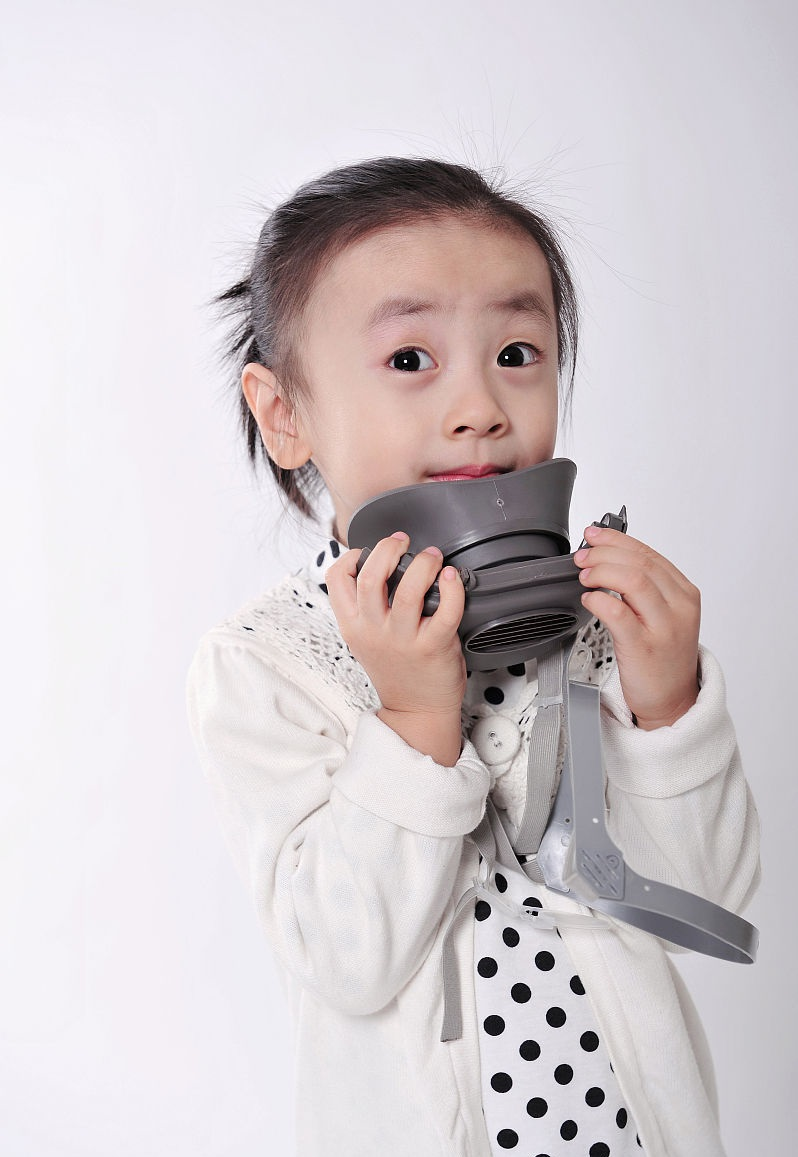face_mask: (317, 199, 622, 687)
